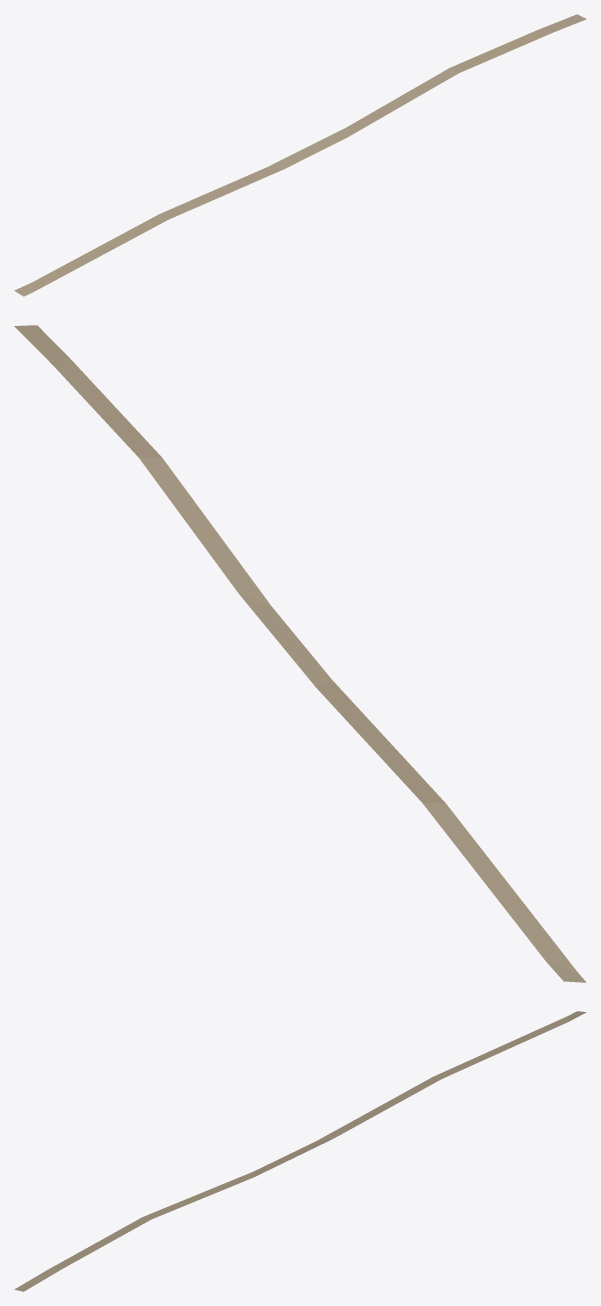
File: farm_29_13_track.glb
3 views of the same model, one above another, from view 1: azimuth 90°, elevation 25°; view 2: azimuth 150°, elevation 25°; view 3: azimuth 270°, elevation 25° (orthographic). The views are drawn at different scales.
Visible parts, largest first — view 1: geometry_0; view 2: geometry_0; view 3: geometry_0.
Part boxes in pixels (box(x1,y1,x2,y2)): geometry_0: box(14, 14, 586, 296); geometry_0: box(14, 325, 586, 982); geometry_0: box(14, 1011, 586, 1291).
Size of the model in its own units: 169 by 3.18 by 146.
